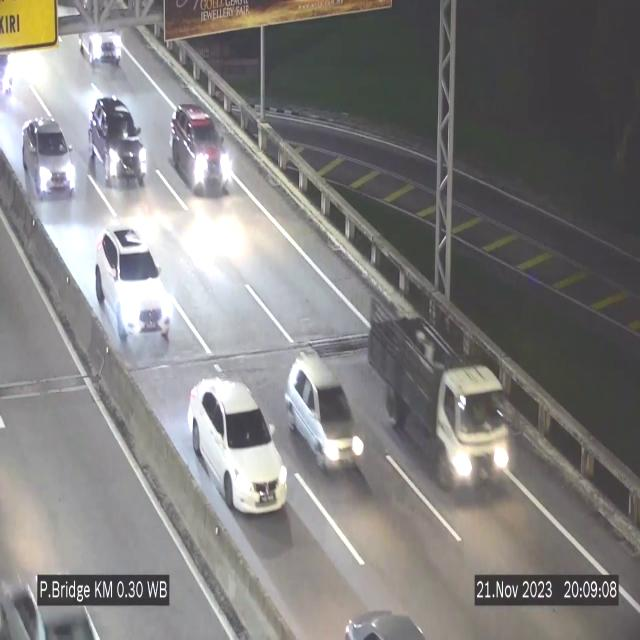Car: (188, 379, 288, 513), (284, 354, 368, 474), (95, 228, 171, 347), (86, 94, 152, 188), (170, 104, 230, 196), (21, 112, 79, 204)
Truck: (368, 292, 512, 502)
